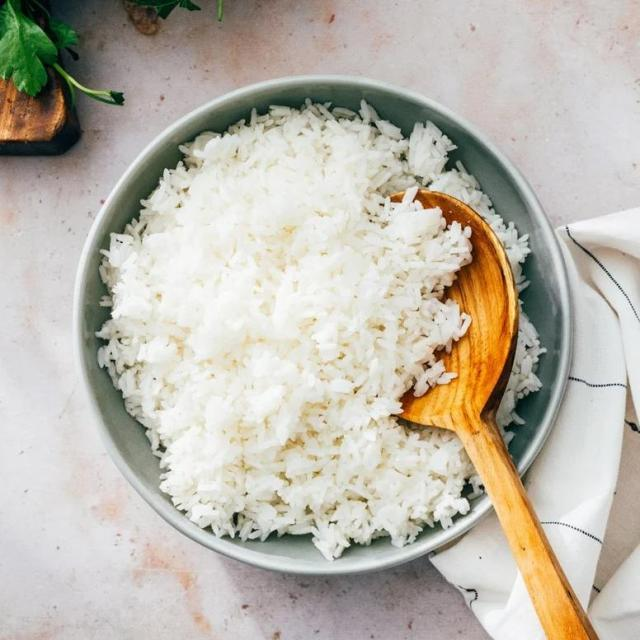rice: (100, 105, 539, 550)
